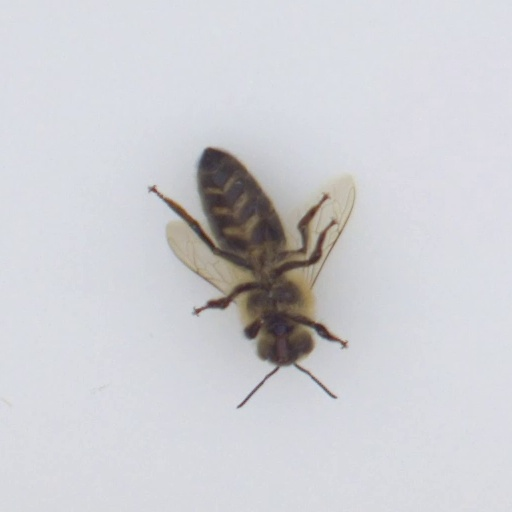Bee: (190, 136, 335, 373)
